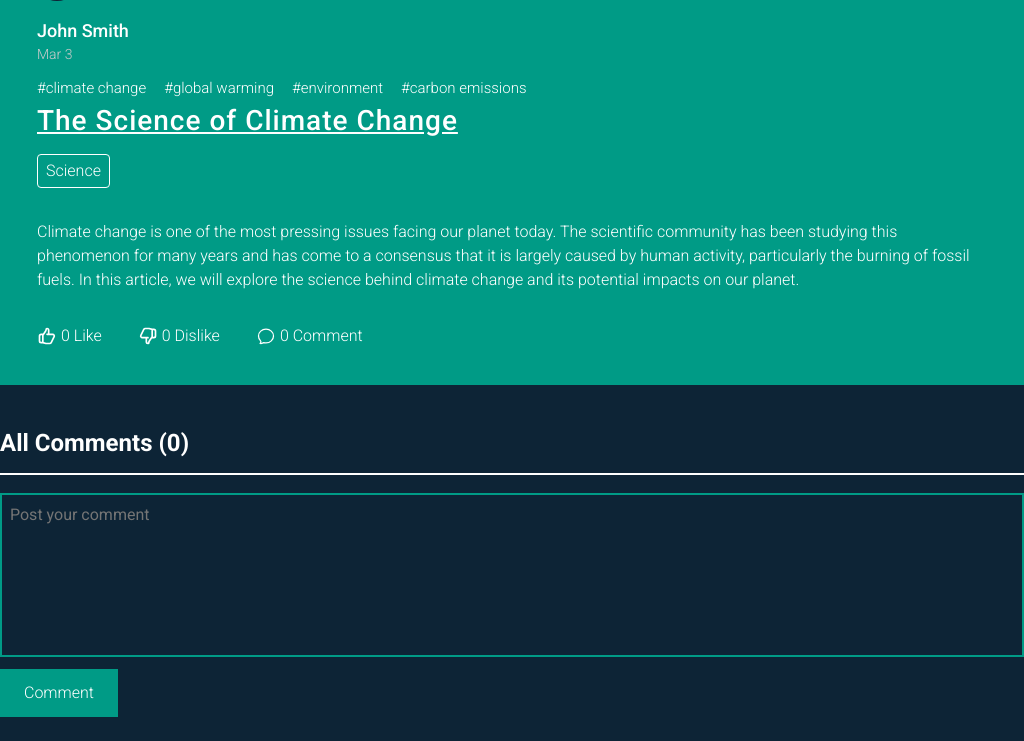
Test: article › should render register form on comment post incase of unauthenticated state
The width and height of the screenshot is (1024, 741).
(page scrolled)
Click the button "Comment". click: (59, 692)
box: [0, 668, 118, 716]
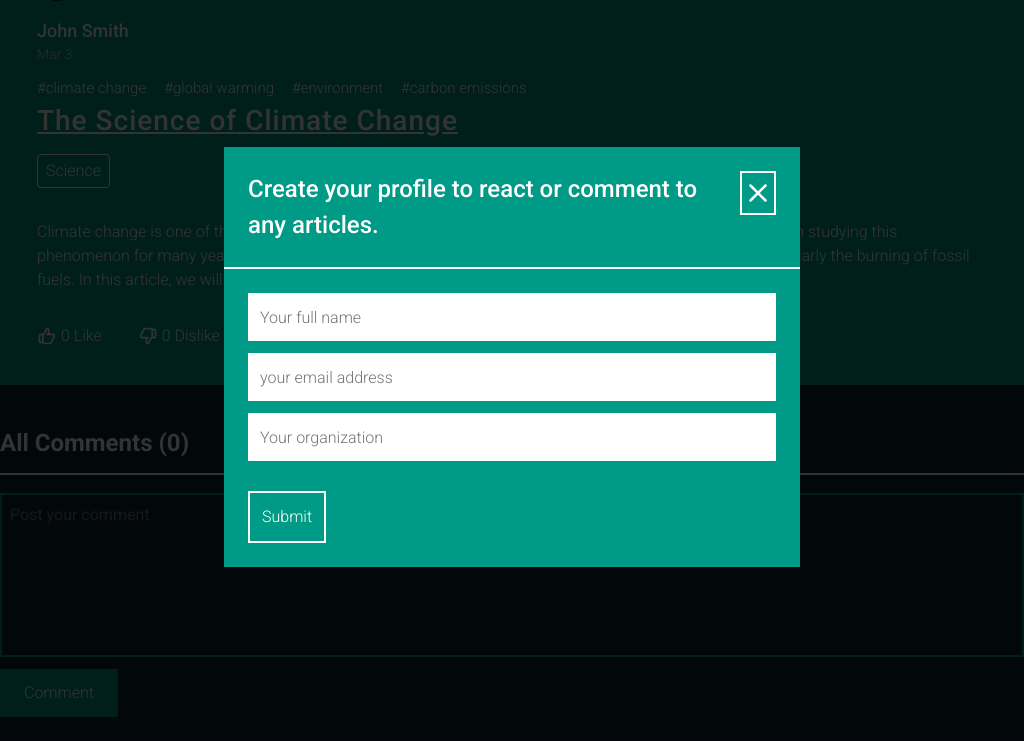
Now the form with test id "user-form" is shown, box [248, 293, 776, 543]
